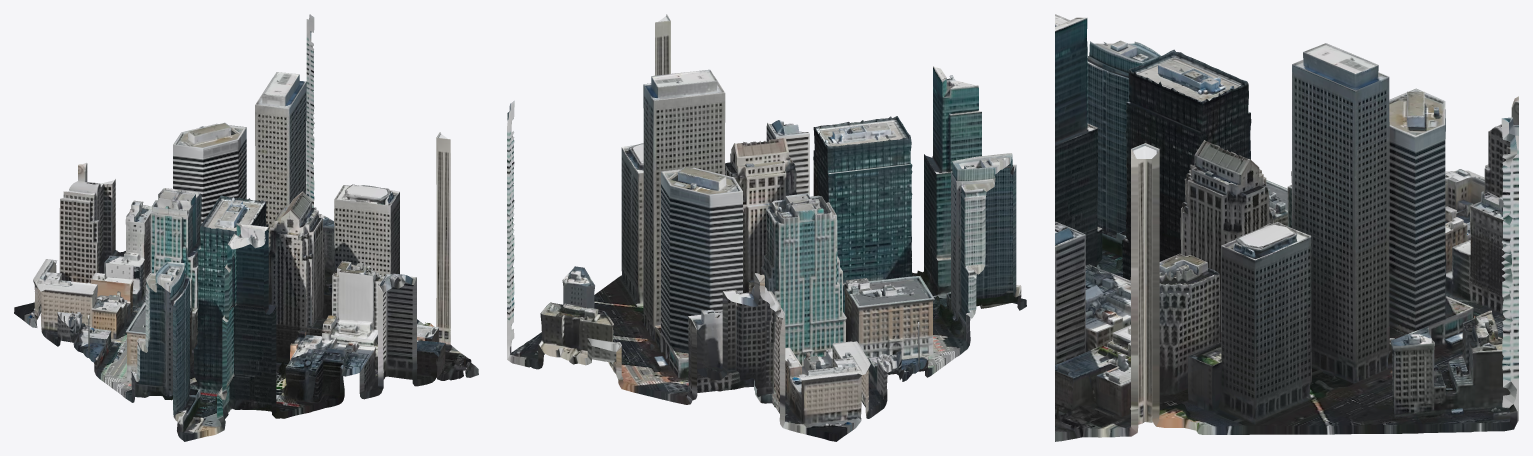
The model's file is z17-20971-50655-h0-yup-uvflip-v3-world.glb.
3 views of the same model, side by side, from view 1: azimuth 30°, elevation 25°; view 2: azimuth 150°, elevation 25°; view 3: azimuth 270°, elevation 25° (orthographic). The views are drawn at different scales.
Size of the model in its own units: 242 by 188 by 243.
1 material, 1 textured.
